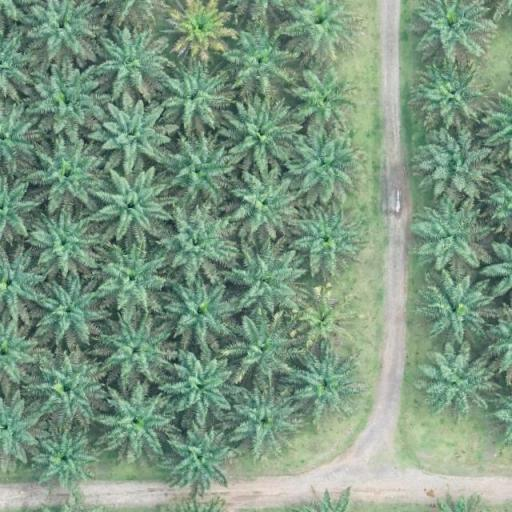Ganoderma: (175, 2, 226, 46)
